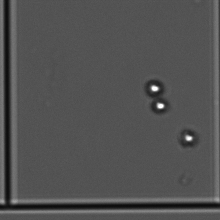Living Cell: (177, 124, 202, 153), (146, 97, 169, 116), (148, 77, 166, 97)
